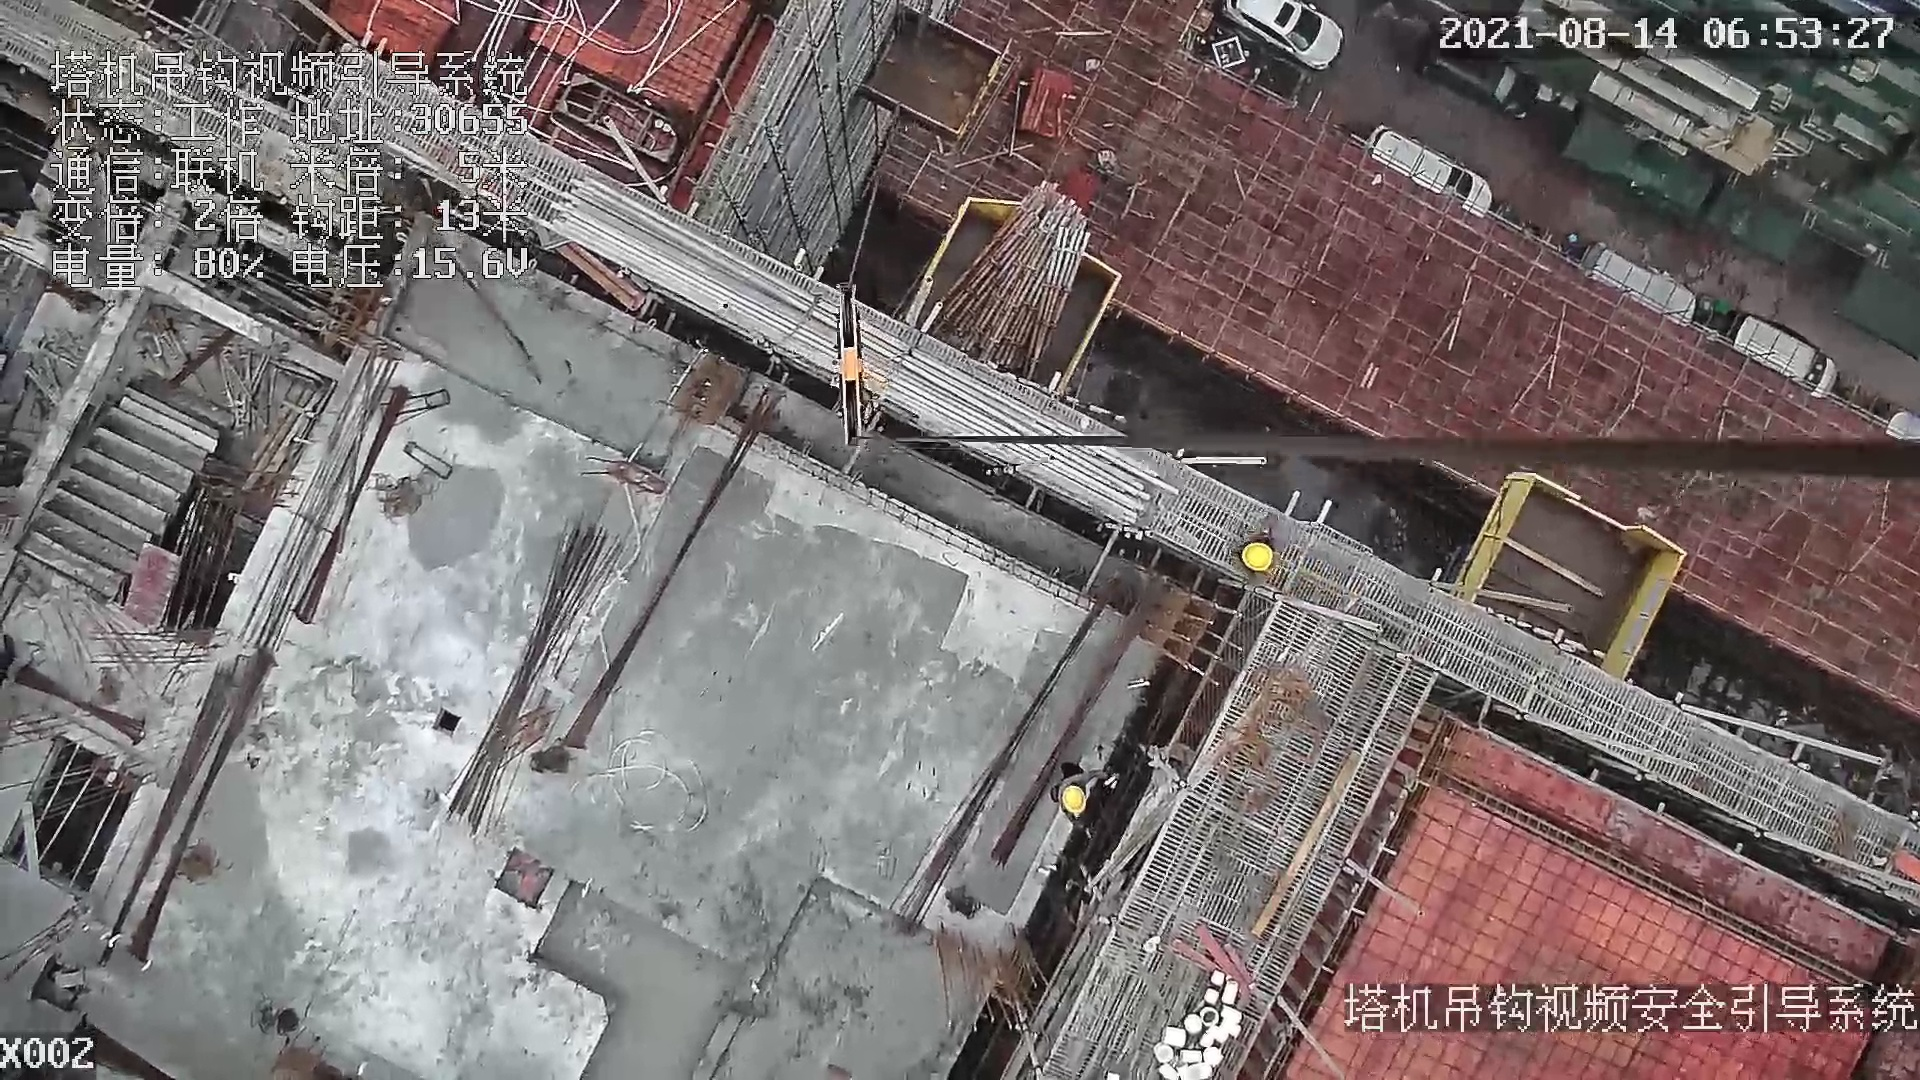helmet: (1241, 542, 1273, 572), (1061, 786, 1087, 814)
hook: (832, 278, 870, 450)
person: (1224, 506, 1301, 589), (1042, 759, 1119, 836)
rebar: (543, 174, 1162, 526), (439, 519, 623, 837)
scaffold: (925, 179, 1089, 377)
